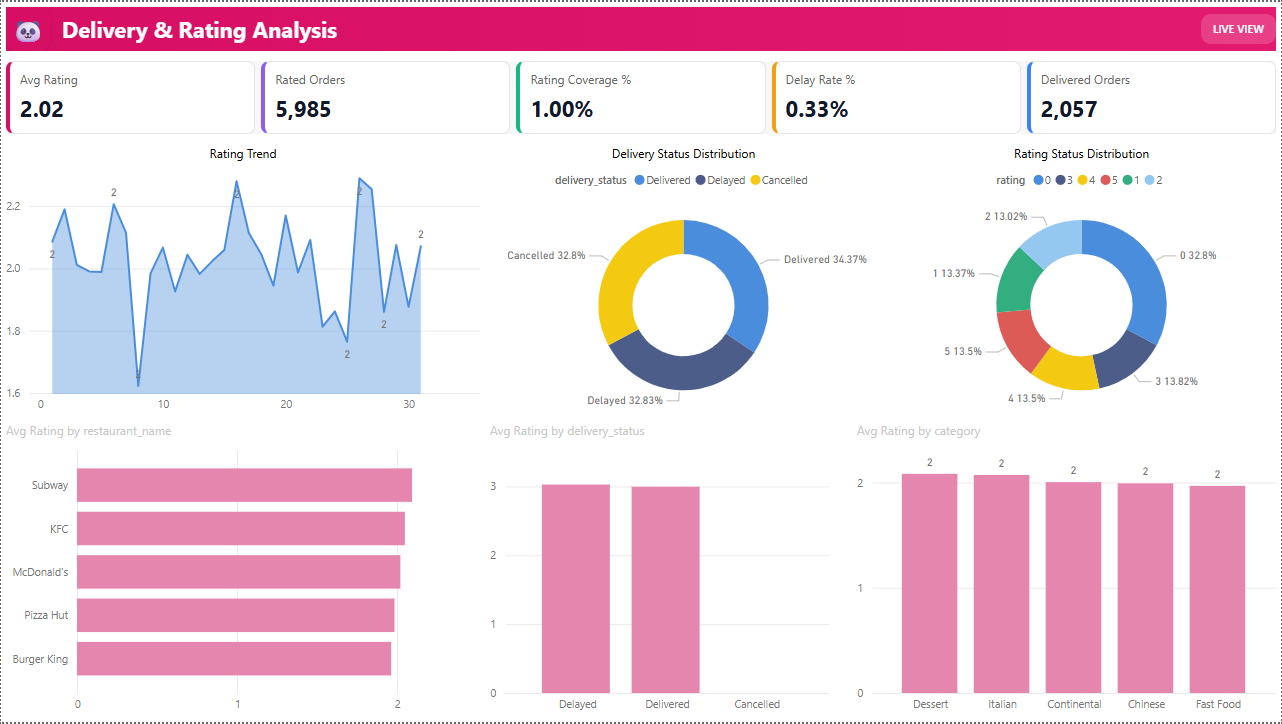

What the dashboard file says about the page in this screenshot:
{"tool":"powerbi","page":{"name":"Delivery & Rating Analysis","canvas":[1280,720],"ordinal":3},"visuals":[{"type":"htmlContent443BE3AD55E043BF878BED274D3A6855","fields":{"content":["Foodpanda.Delivery & Rating Analysis Title HTML"]},"box":[0,0,1280,54.3],"z":0},{"type":"donutChart","title":"Delivery Status Distribution","fields":{"Category":["Foodpanda.delivery_status"],"Y":["Foodpanda.Total Orders"]},"box":[484.3,142.9,397.1,277.1],"z":8000},{"type":"barChart","fields":{"Category":["Foodpanda.restaurant_name"],"Y":["Foodpanda.Avg Rating"]},"box":[0,420,484.3,300],"z":9000},{"type":"columnChart","fields":{"Category":["Foodpanda.category"],"Y":["Foodpanda.Avg Rating"]},"box":[851.4,420,428.6,300],"z":10000},{"type":"lineChart","title":"Rating Trend","fields":{"Category":["Foodpanda.rating_date.Variation.Date Hierarchy.Year","Foodpanda.rating_date.Variation.Date Hierarchy.Quarter","Foodpanda.rating_date.Variation.Date Hierarchy.Month","Foodpanda.rating_date.Variation.Date Hierarchy.Day"],"Y":["Foodpanda.Avg Rating"]},"box":[0,142.9,484.3,277.1],"z":11000},{"type":"donutChart","title":"Rating Status Distribution","fields":{"Y":["Foodpanda.Total Orders"],"Category":["Foodpanda.rating"]},"box":[881.4,142.9,398.6,277.1],"z":12000},{"type":"columnChart","fields":{"Category":["Foodpanda.delivery_status"],"Y":["Foodpanda.Avg Rating"]},"box":[484.3,420,348.6,300],"z":13000},{"type":"htmlContent443BE3AD55E043BF878BED274D3A6855","fields":{"content":["Foodpanda.Rating KPI Group HTML"]},"box":[0,54.3,1280,88.6],"z":14000}]}

Visuals, with their boxes on the page's 1280x720 design canvas (x1, y1, x2, y2). These are canvas units, not pixel positions in the 1282x724 screenshot, which may show the page scaled, cropped or inside an application window:
htmlContent443BE3AD55E043BF878BED274D3A6855 - Foodpanda.Delivery & Rating Analysis Title HTML: 0, 0, 1280, 54
"Delivery Status Distribution" donutChart: 484, 143, 881, 420
barChart - Foodpanda.restaurant_name x Foodpanda.Avg Rating: 0, 420, 484, 720
columnChart - Foodpanda.category x Foodpanda.Avg Rating: 851, 420, 1280, 720
"Rating Trend" lineChart: 0, 143, 484, 420
"Rating Status Distribution" donutChart: 881, 143, 1280, 420
columnChart - Foodpanda.delivery_status x Foodpanda.Avg Rating: 484, 420, 833, 720
htmlContent443BE3AD55E043BF878BED274D3A6855 - Foodpanda.Rating KPI Group HTML: 0, 54, 1280, 143
